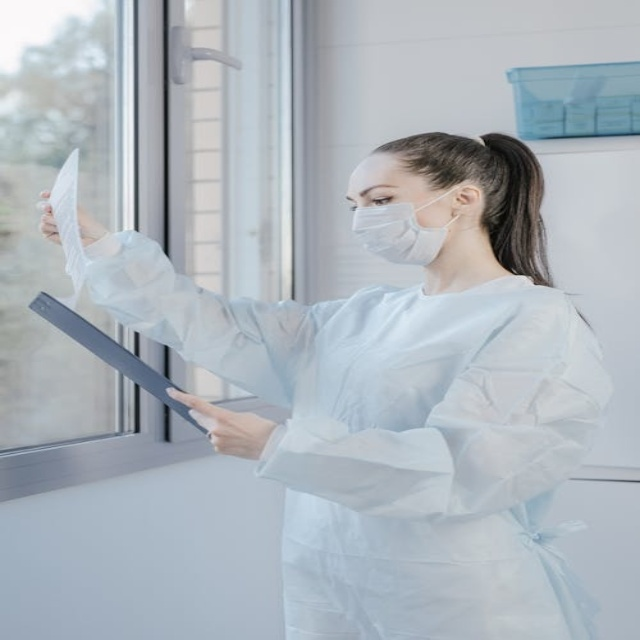Mascara: (352, 186, 463, 266)
Sin_gafas: (338, 175, 420, 214)
Sin_guantes: (168, 390, 279, 461), (37, 188, 107, 250)
